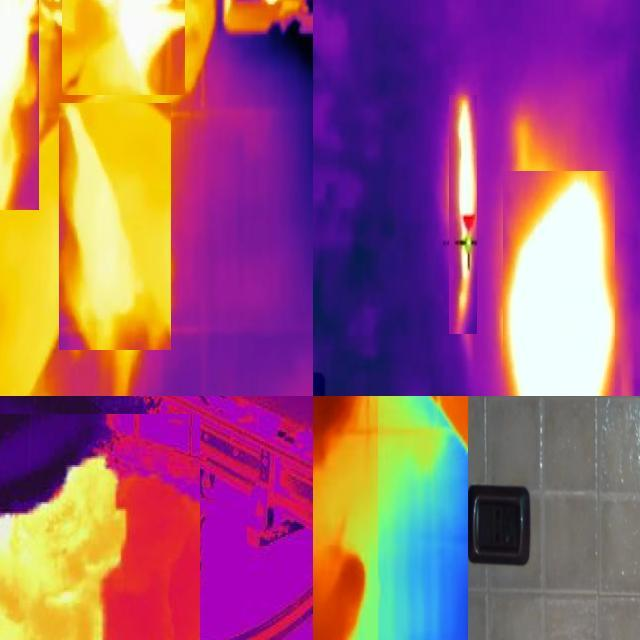fire: (504, 172, 616, 397), (1, 455, 131, 640), (450, 96, 477, 271), (115, 1, 185, 61), (1, 1, 32, 96)
